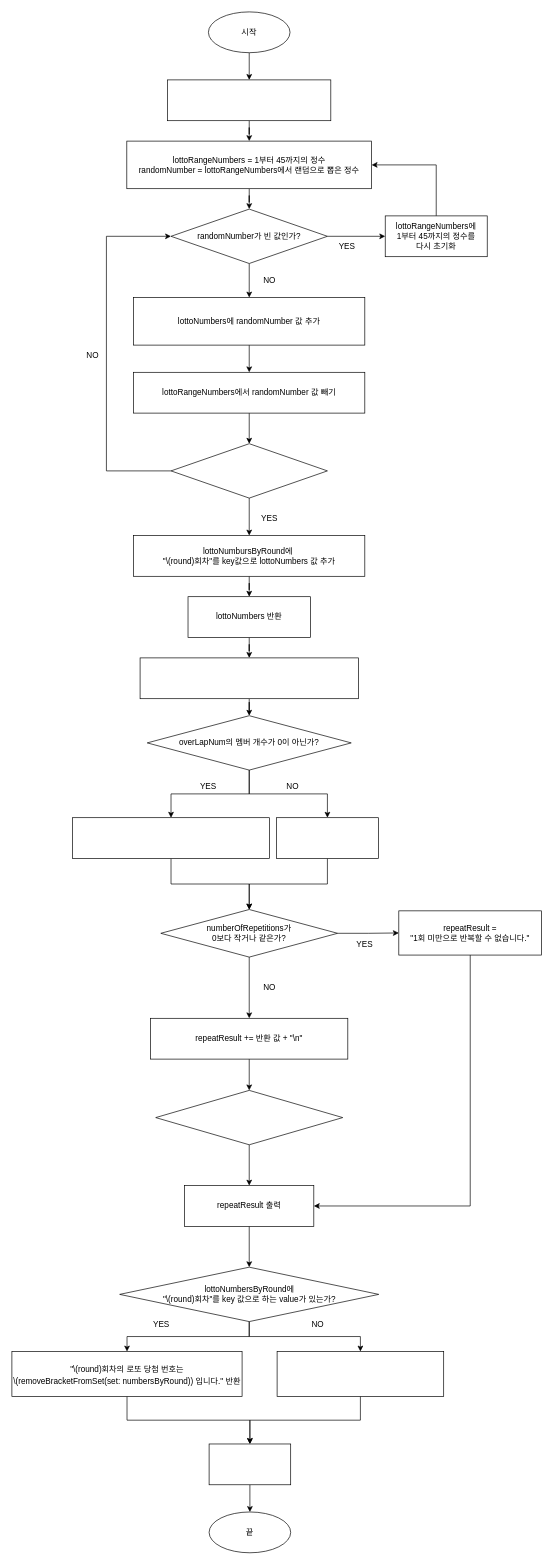
This 554x1565 diagram has some shape labels left out. Here are the shapes that lost their labels. From the top down, the centre of each, then its label:
(x=249, y=100): myLottoNumbers = [2,3,8,21,38,44] lottoNumberByRound = [ :]
(x=248, y=470): lottoNumbers의 값이 6개인가?
(x=248, y=678): overLapNum : lottonMun과 myNum의 중복 값
(x=171, y=838): "축하합니다! 겹치는 번호는 [ overLapNum을 오름차순으로 정렬한 값 ] 입니다!" 반환
(x=327, y=838): "아쉽지만 겹치는 번호가 없습니다." 반환
(x=249, y=1117): numberOfRepetitions만큼 반복 했는가?
(x=360, y=1373): "해당 회차의 로또 번호가 없습니다." 반환
(x=249, y=1464): 반환 값 출력
